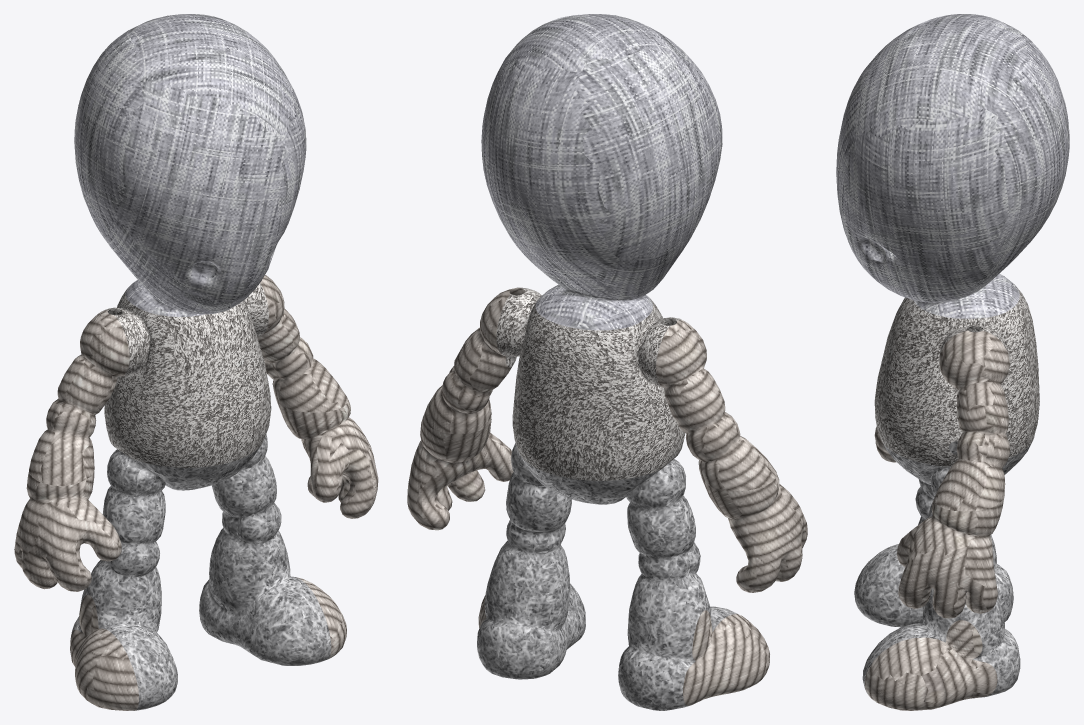
File: 02-taper-tallstalk--white_humanoid_doll_3d_model.glb
The picture shows the model from 3 angles, left to right: view 1: azimuth 30°, elevation 25°; view 2: azimuth 150°, elevation 25°; view 3: azimuth 270°, elevation 25°; orthographic projection. The views are drawn at different scales.
Parts seen in each view (by area): view 1: head_mesh, arms_mesh, feet_mesh, body_mesh; view 2: head_mesh, arms_mesh, feet_mesh, body_mesh; view 3: head_mesh, arms_mesh, body_mesh, feet_mesh.
Boxes of the visible parts, left/top/right/bottom form: head_mesh: left=74, top=14, right=306, bottom=316; arms_mesh: left=14, top=275, right=378, bottom=710; feet_mesh: left=71, top=434, right=331, bottom=710; body_mesh: left=103, top=283, right=271, bottom=467; head_mesh: left=481, top=14, right=722, bottom=330; arms_mesh: left=407, top=287, right=807, bottom=705; feet_mesh: left=477, top=443, right=738, bottom=710; body_mesh: left=496, top=288, right=685, bottom=480; head_mesh: left=836, top=14, right=1069, bottom=318; arms_mesh: left=864, top=330, right=1009, bottom=710; body_mesh: left=874, top=284, right=1039, bottom=466; feet_mesh: left=854, top=437, right=1034, bottom=698.
Bounding box in the file's own units: 1.78 × 3 × 1.01.
Materials: 4 (4 with a texture image).
